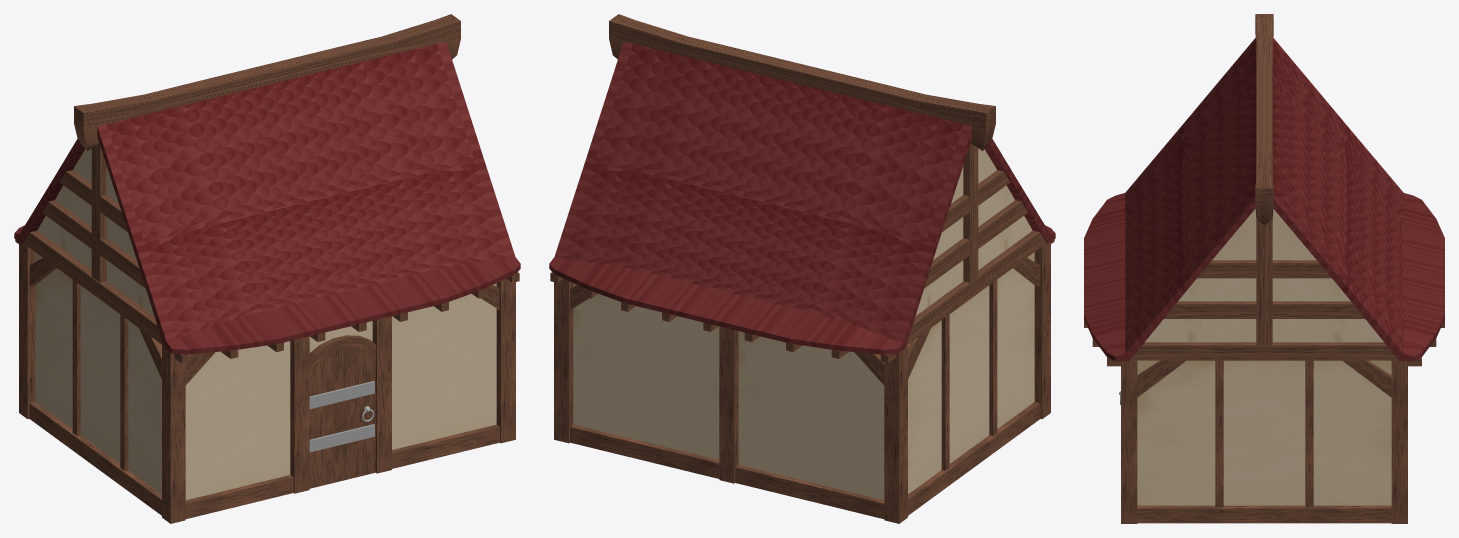
Rendered from 1_Story_House1_MESH_1.fbx.
3 renders of one model, left to right at view 1: azimuth 30°, elevation 25°; view 2: azimuth 150°, elevation 25°; view 3: azimuth 270°, elevation 25°, orthographic. The views are drawn at different scales.
Parts seen in each view (by area): view 1: pCube2739; view 2: pCube2739; view 3: pCube2739.
Boxes of the visible parts, x1=… form: pCube2739: x1=14, y1=14, x2=520, y2=523; pCube2739: x1=549, y1=14, x2=1055, y2=523; pCube2739: x1=1084, y1=14, x2=1444, y2=523.
Bounding box in the file's own units: 914 × 840 × 800.
